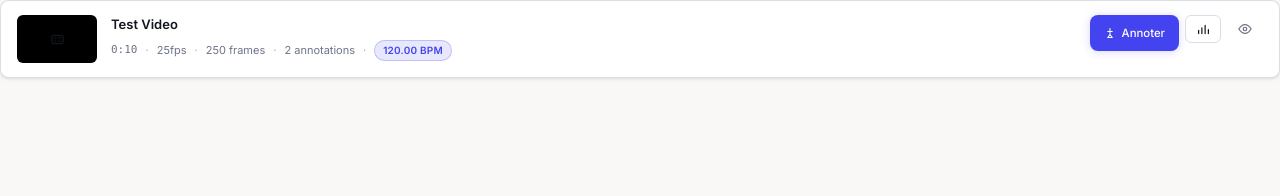
Test case: VideoCard › clicking adapter button shows PreviewPanel
What coordinates should you click on to do the following:
click the button named "adapter"
I would click on:
 (1245, 29)
Its box is [1227, 15, 1263, 43].
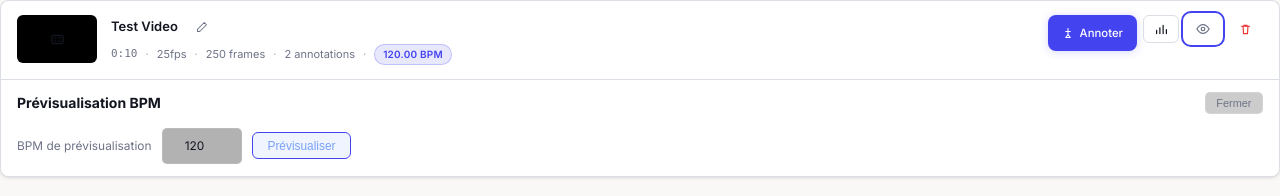
Expected: the element with test id "bpm-preview-panel" is shown, [17, 92, 1263, 164]
